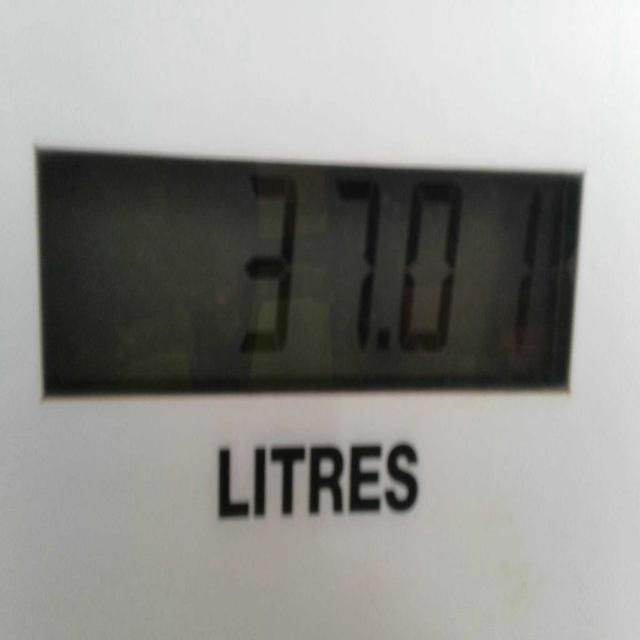.: (380, 332, 390, 350)
0: (399, 182, 458, 351)
1: (508, 189, 540, 352)
3: (246, 179, 296, 349)
7: (334, 176, 379, 348)
